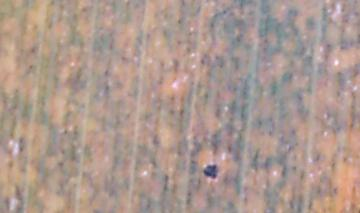tarspot: (200, 160, 220, 180)
